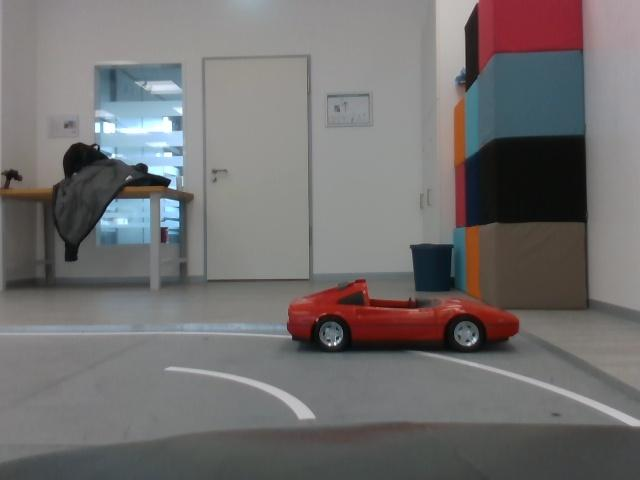car: (279, 279, 529, 359)
